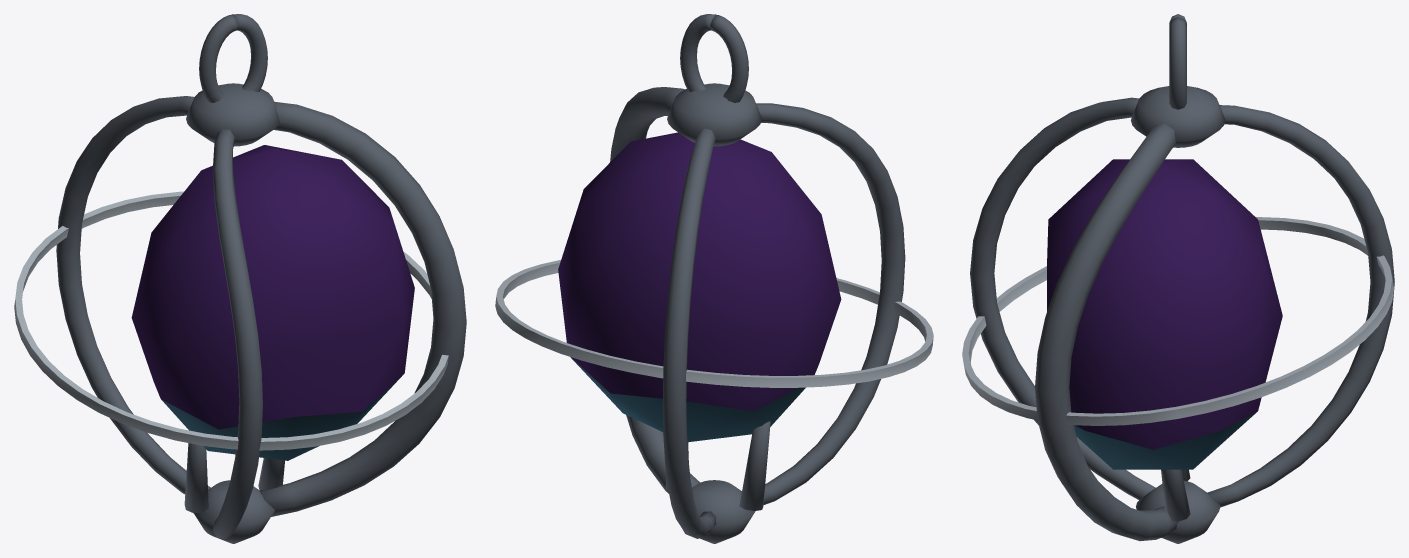
The model's file is stormorbit.glb.
The picture shows the model from 3 angles, left to right: view 1: azimuth 30°, elevation 25°; view 2: azimuth 150°, elevation 25°; view 3: azimuth 270°, elevation 25°; orthographic projection.
Parts seen in each view (by area): view 1: stormorbit_Baked.001 export; view 2: stormorbit_Baked.001 export; view 3: stormorbit_Baked.001 export.
Part boxes in pixels (<box>): stormorbit_Baked.001 export: <box>14,14,466,543</box>; stormorbit_Baked.001 export: <box>495,14,933,543</box>; stormorbit_Baked.001 export: <box>962,14,1394,543</box>.
Bounding box in the file's own units: 0.1757 × 0.233 × 0.1736.
1 material, 1 textured.
